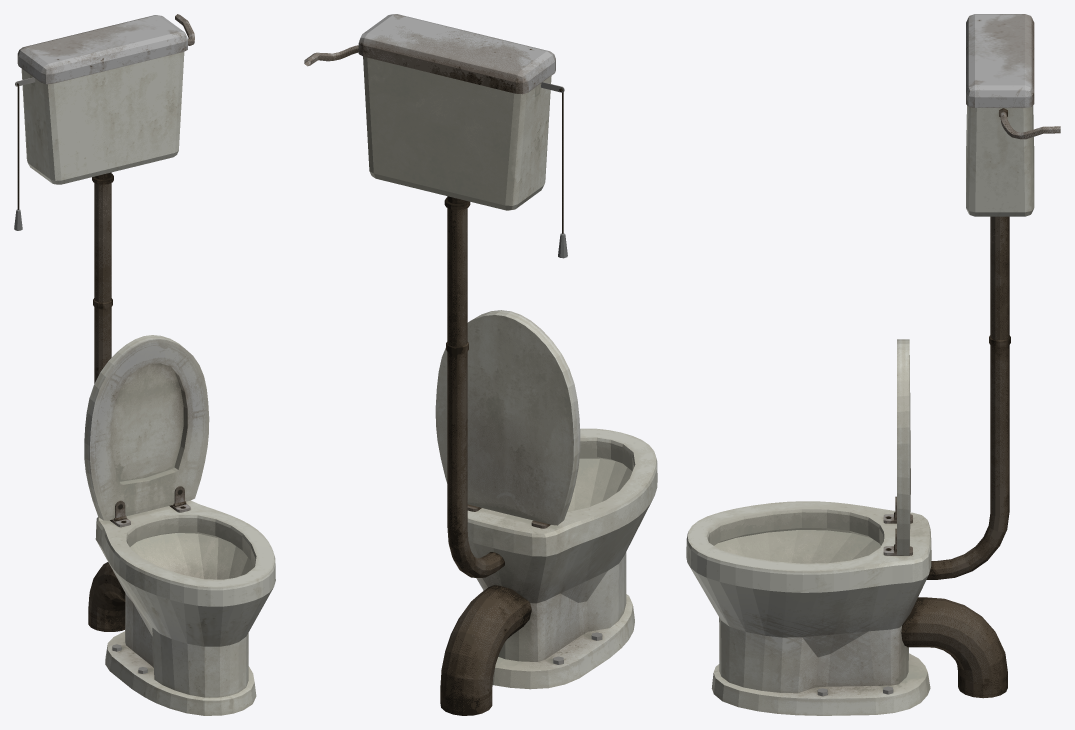
File: VaterSeparado.FBX
3 views of the same model, side by side, from view 1: azimuth 30°, elevation 25°; view 2: azimuth 150°, elevation 25°; view 3: azimuth 270°, elevation 25° (orthographic). The views are drawn at different scales.
Visible parts, largest first — view 1: polySurface111, TapaVater; view 2: polySurface111, TapaVater; view 3: polySurface111, TapaVater.
Part boxes in pixels (bbox=[...]): polySurface111: bbox=[14, 14, 275, 715]; TapaVater: bbox=[84, 335, 209, 520]; polySurface111: bbox=[304, 14, 657, 715]; TapaVater: bbox=[435, 310, 580, 525]; polySurface111: bbox=[686, 14, 1060, 715]; TapaVater: bbox=[895, 339, 910, 555].
Size of the model in its own units: 83.52 by 235 by 125.
